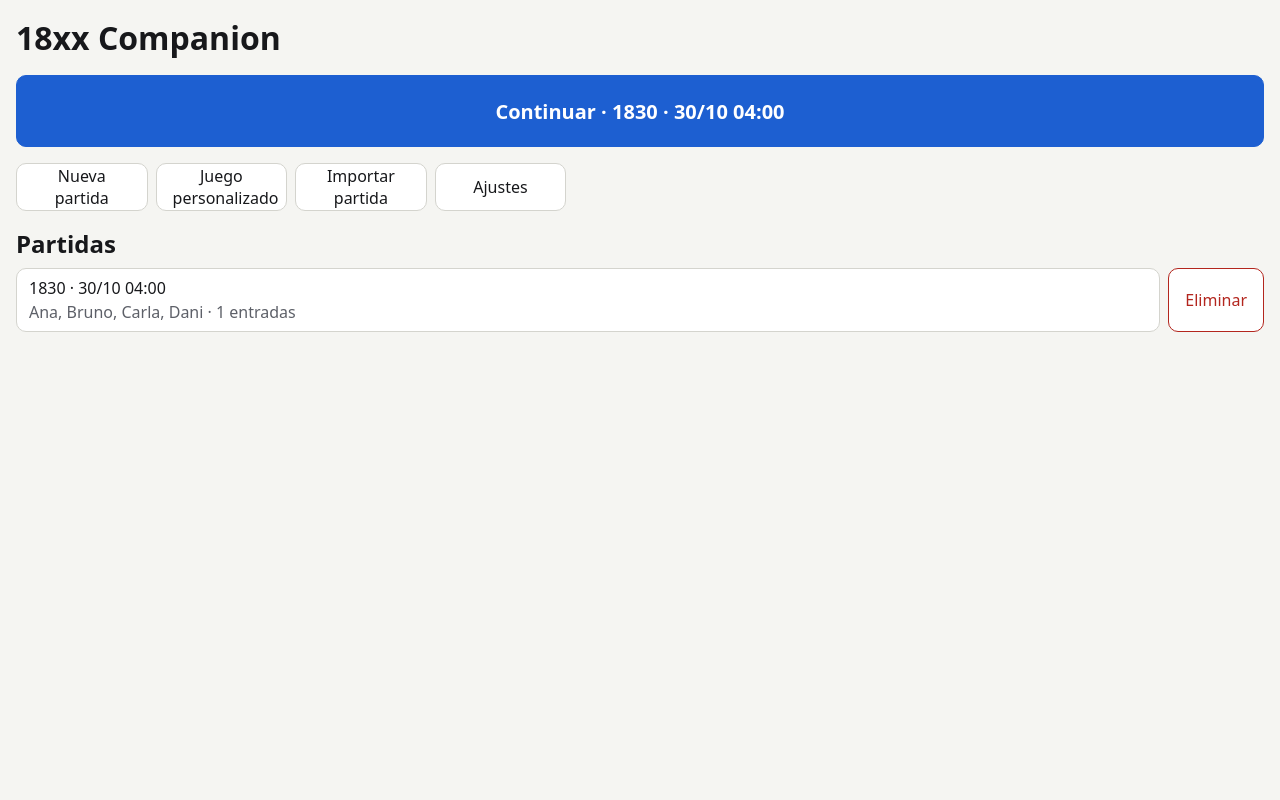
it: voice (US5) › US5-5: the mic says why it is unavailable — no key, offline, no speech recognition
This screenshot has width=1280, height=800.
Click the button "Continuar · 1830 · 30/10 04:00": coordinates (640, 111) [16, 75, 1264, 147]
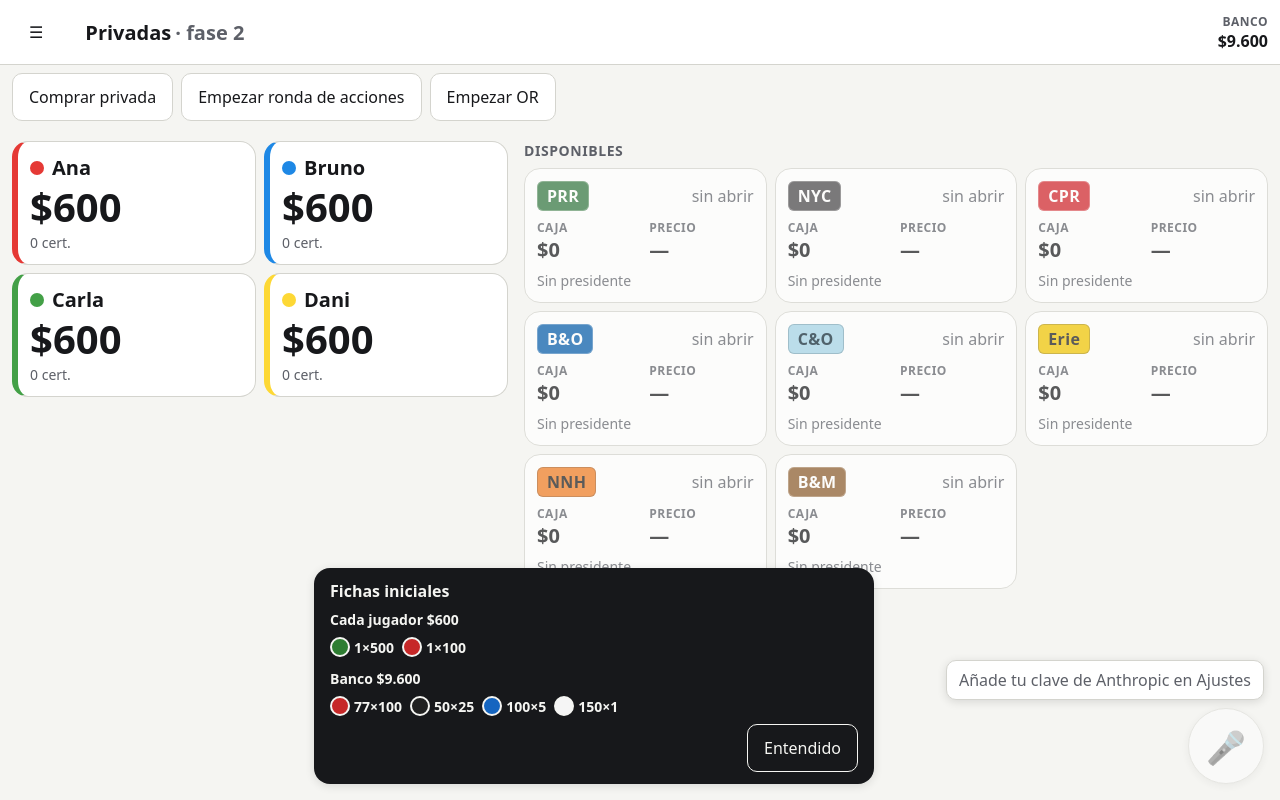
Check: the button named "Menú" is shown, box [12, 8, 60, 56]
Check: the text "Añade tu clave de Anthropic en Ajustes" is shown, box [946, 660, 1264, 700]
Check: the button named "Mantén pulsado para hablar" is disabled, box [1188, 708, 1264, 784]
